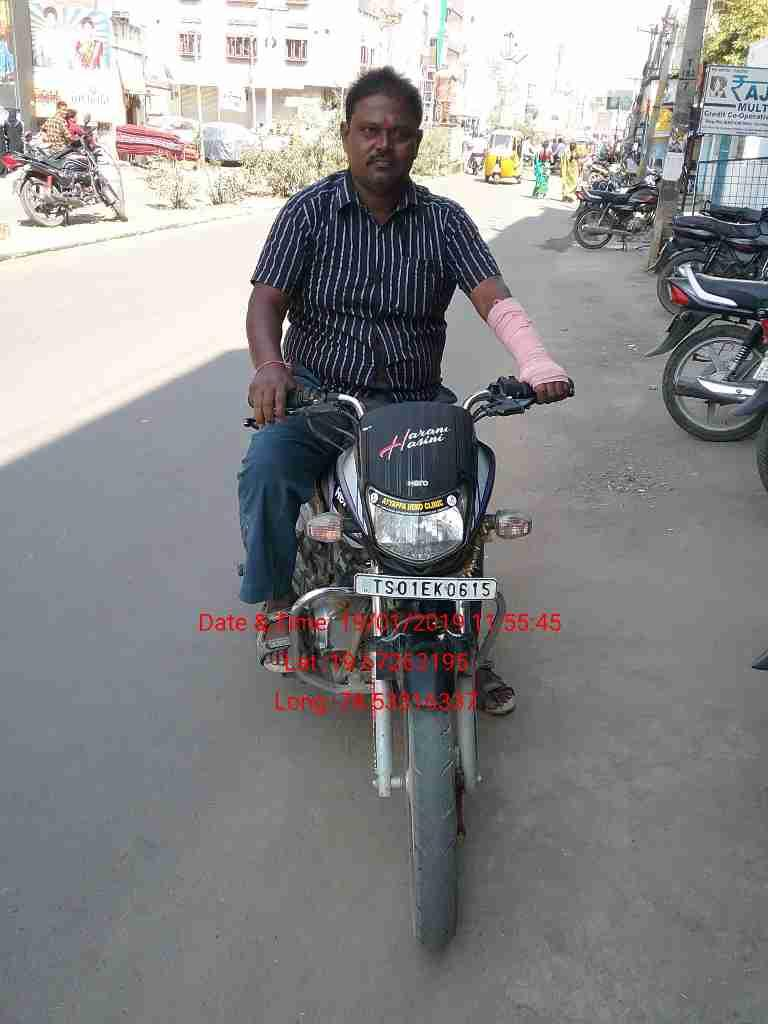plate: (352, 569, 500, 602)
